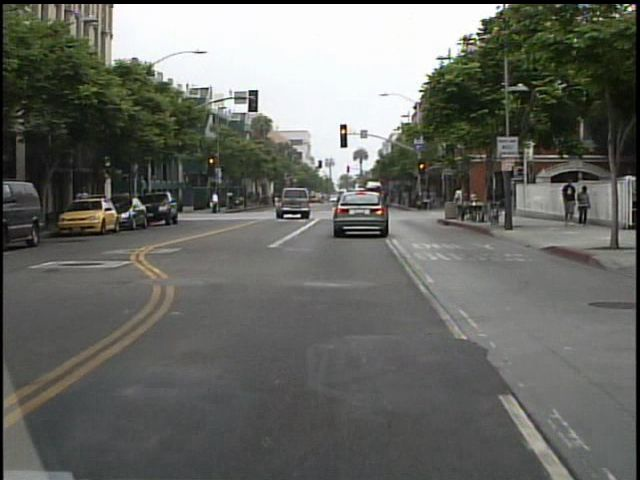person: (559, 176, 578, 228), (570, 183, 590, 230), (449, 184, 469, 224), (210, 188, 223, 216)
